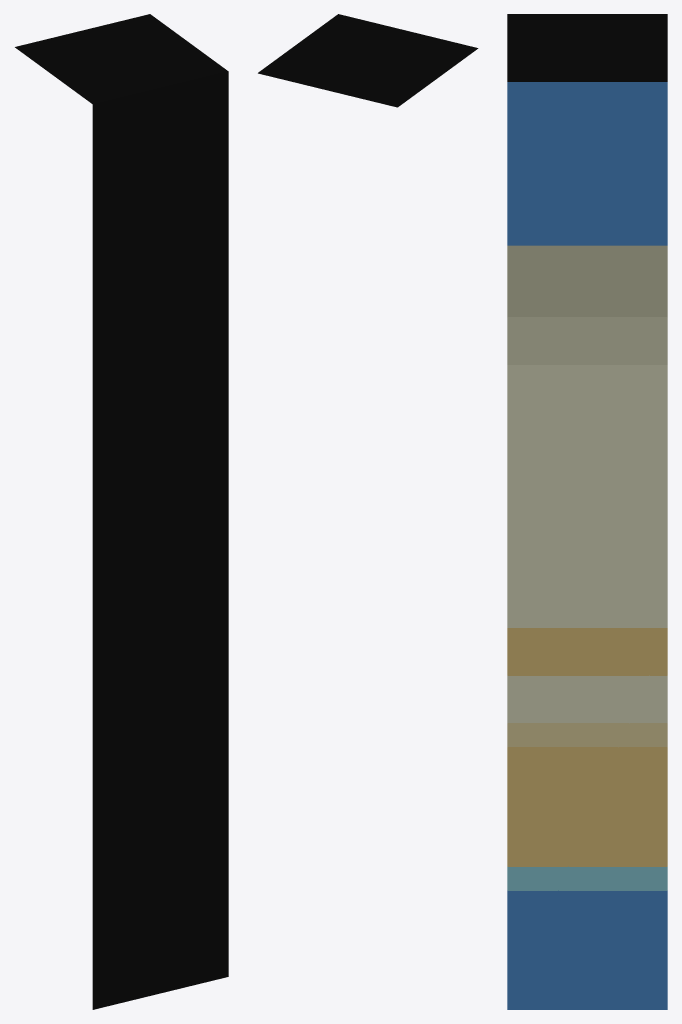
3 views of the same model, side by side, from view 1: azimuth 30°, elevation 25°; view 2: azimuth 150°, elevation 25°; view 3: azimuth 270°, elevation 25° (orthographic). The views are drawn at different scales.
Size of the model in its own units: 0.5 by 3.19 by 0.5.
2 materials, 2 textured.
